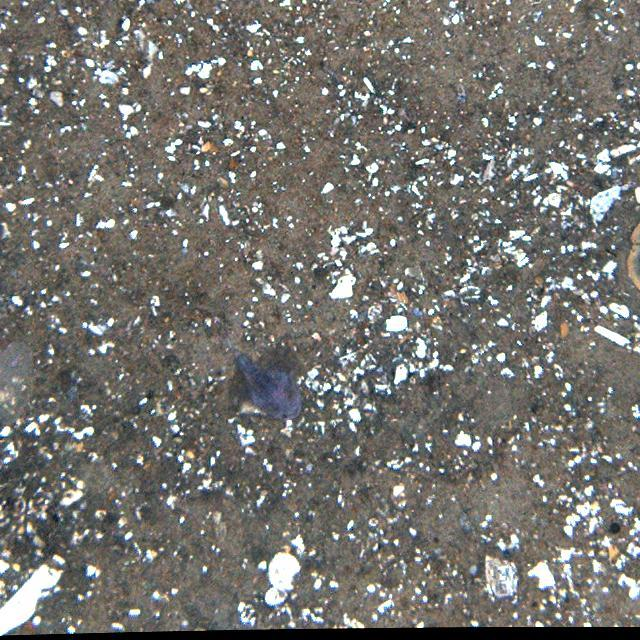roundfish: (222, 338, 307, 433)
